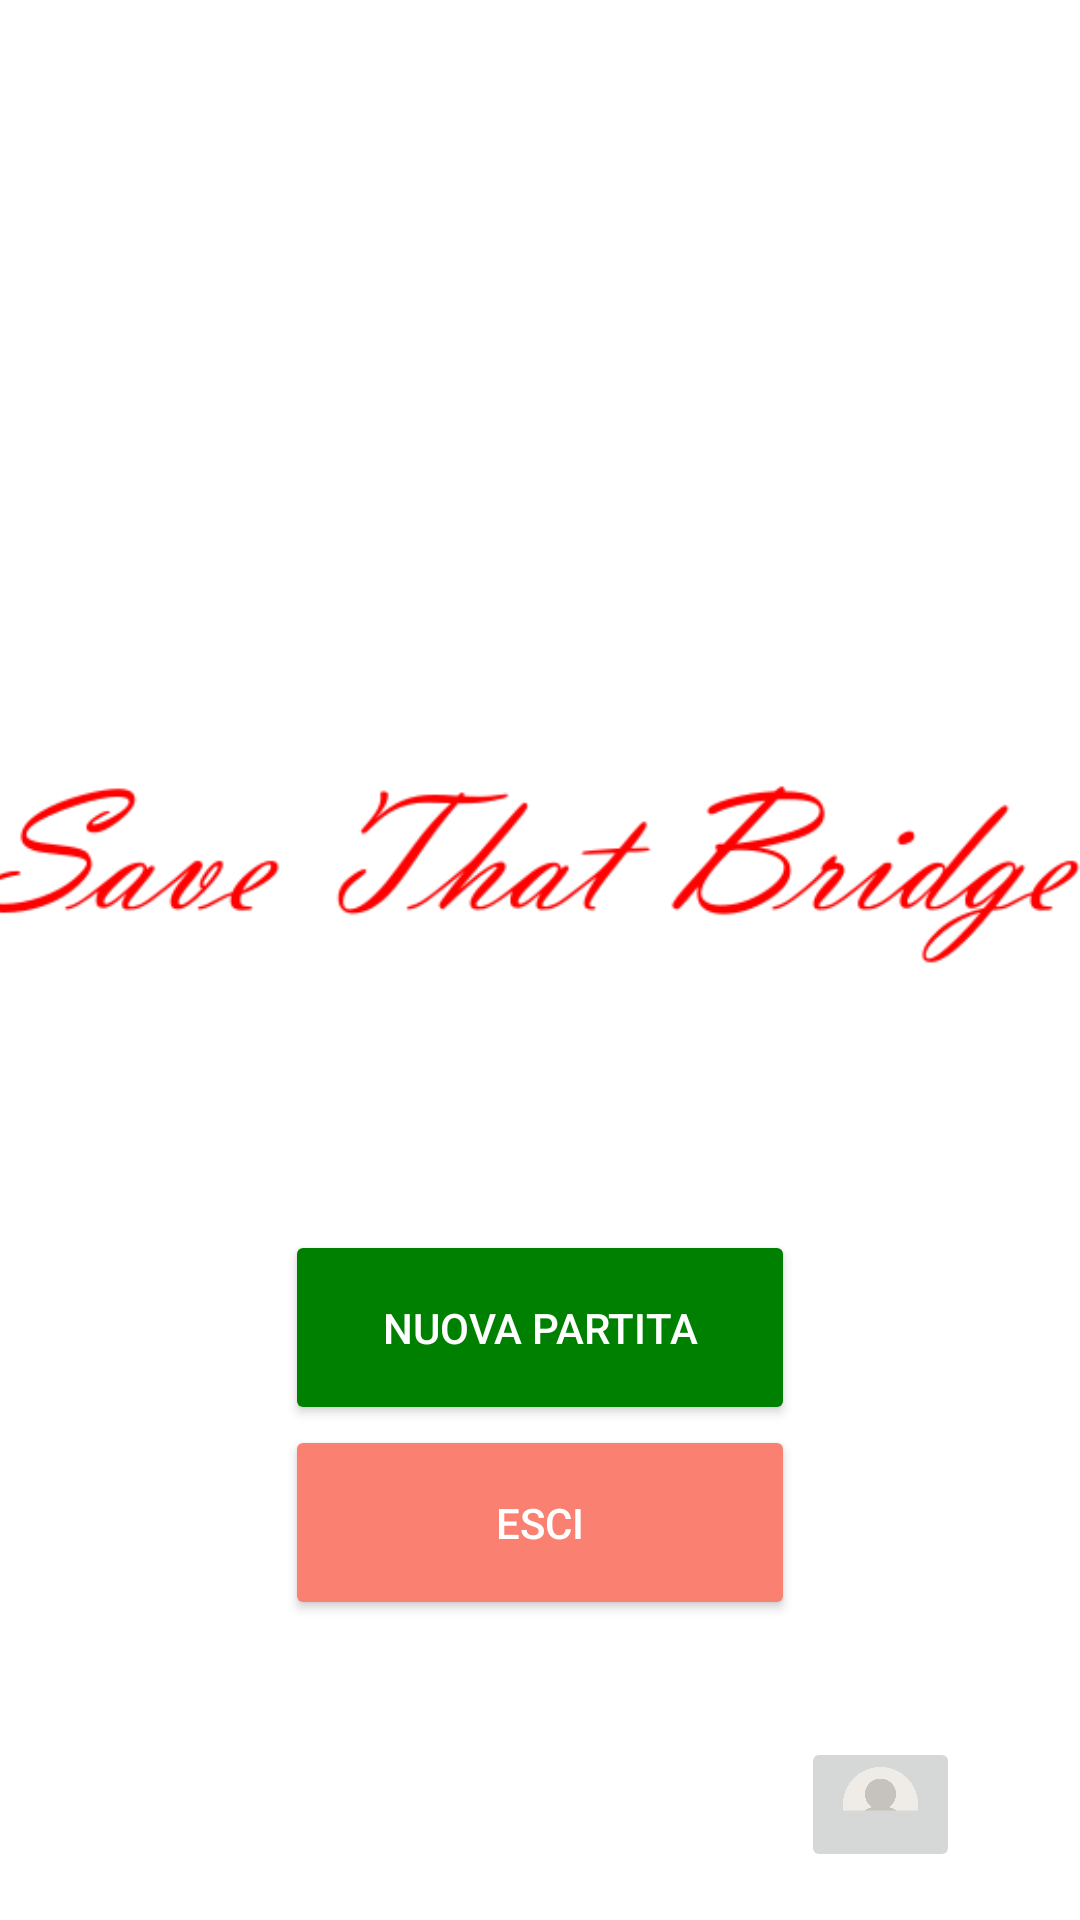

Named icons in this screenshot (1080w x 1920h) and their bounding boxes, (x1, y1, x2, y2):
user: (813, 1755, 948, 1854)
